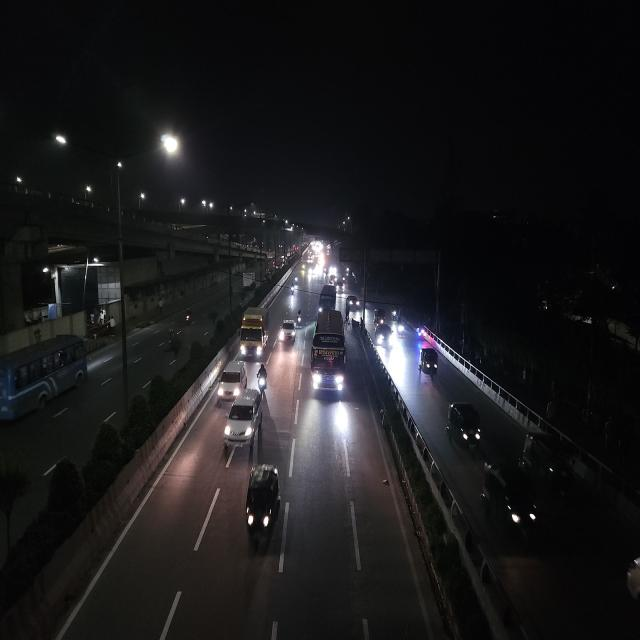bus: (0, 329, 90, 429), (309, 306, 349, 401), (238, 305, 270, 360), (317, 285, 337, 311)
car: (222, 388, 265, 446), (216, 358, 248, 401), (374, 321, 394, 350), (278, 317, 297, 343), (345, 296, 360, 312), (337, 279, 347, 293)
cng: (479, 457, 542, 546), (242, 461, 282, 552), (444, 398, 486, 459), (415, 345, 441, 382), (373, 308, 387, 327)
motorcycle: (256, 360, 270, 396), (165, 325, 183, 353), (183, 307, 195, 327), (396, 318, 405, 341), (296, 307, 304, 328), (415, 326, 425, 341), (289, 283, 297, 295)
pedestrian: (343, 305, 352, 322)
truck: (238, 304, 270, 360), (242, 273, 255, 289)
